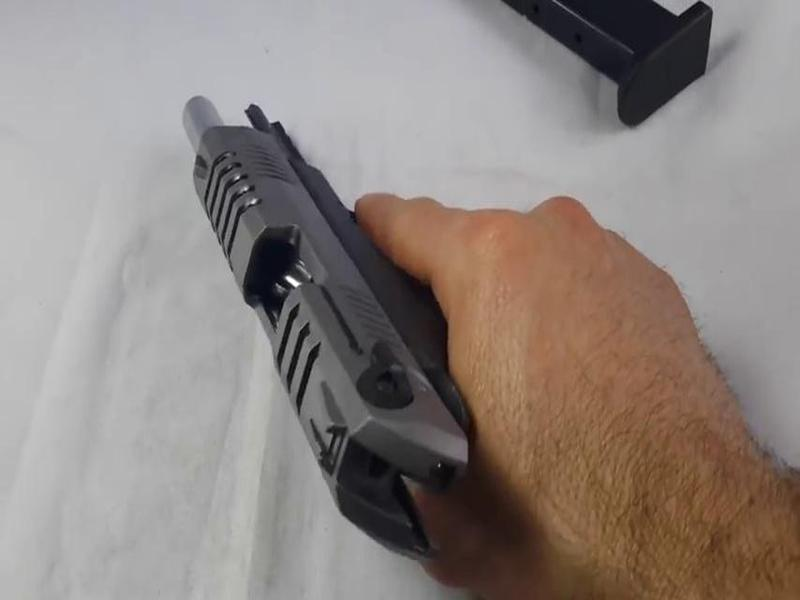Pistola: (153, 57, 521, 564)
